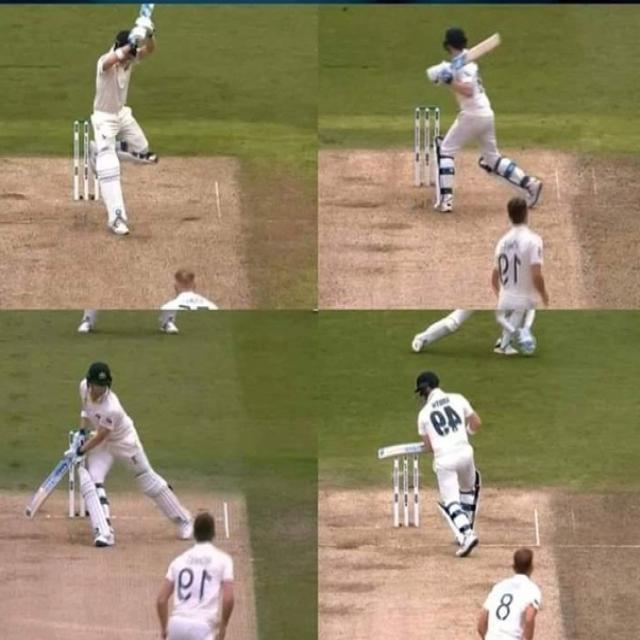stump: (390, 452, 422, 532), (413, 106, 441, 190), (72, 117, 99, 197), (61, 464, 89, 519)
